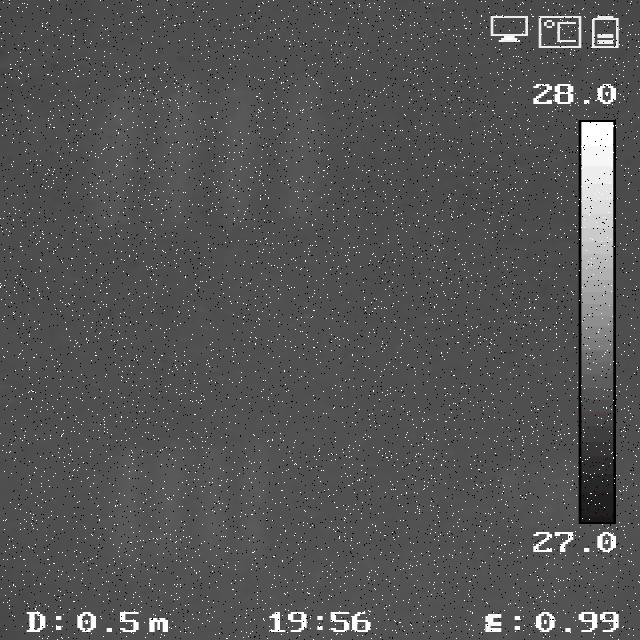threshold 4-bar target: (92, 81, 324, 224), (117, 455, 272, 551)
